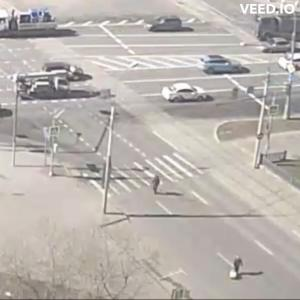car: (11, 73, 78, 103), (1, 7, 59, 37), (255, 11, 300, 38), (202, 55, 252, 77), (163, 84, 215, 104), (42, 59, 86, 79), (148, 18, 195, 34), (262, 39, 291, 55)
